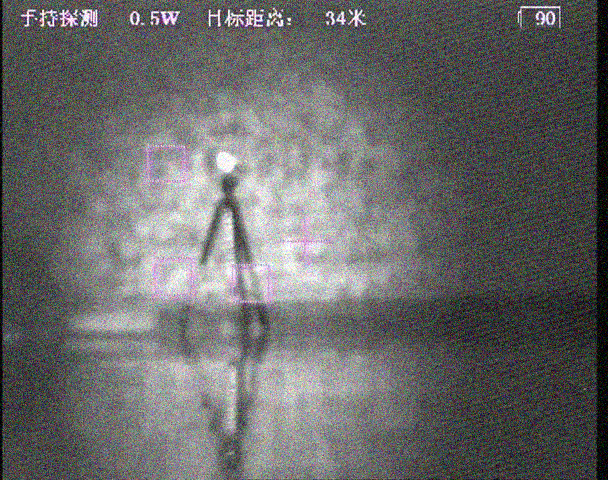my: (213, 150, 239, 175)
